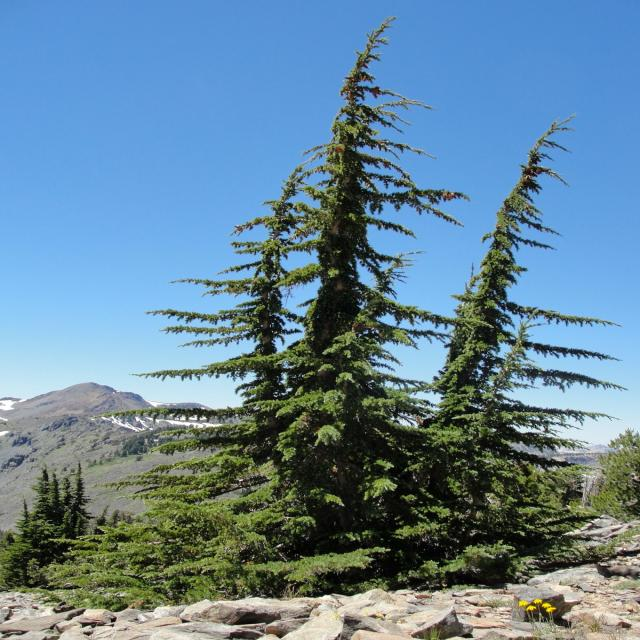Tsuga mertensiana: (168, 10, 456, 545)
